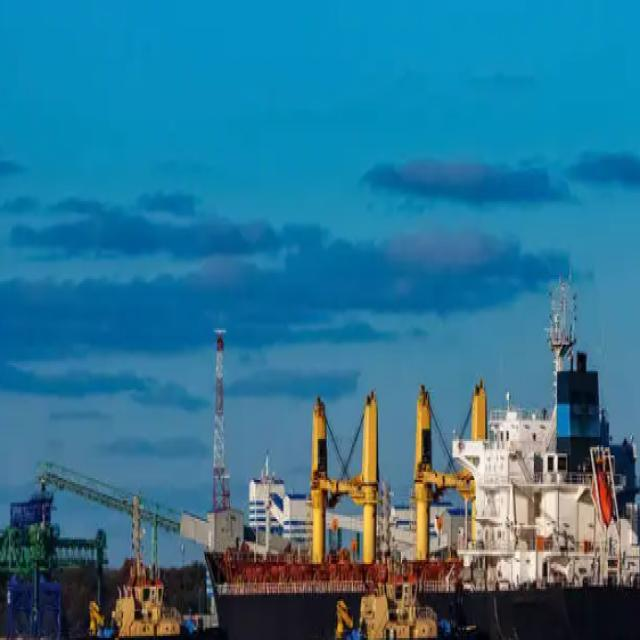cargoship: (206, 266, 640, 640), (34, 560, 222, 640)
